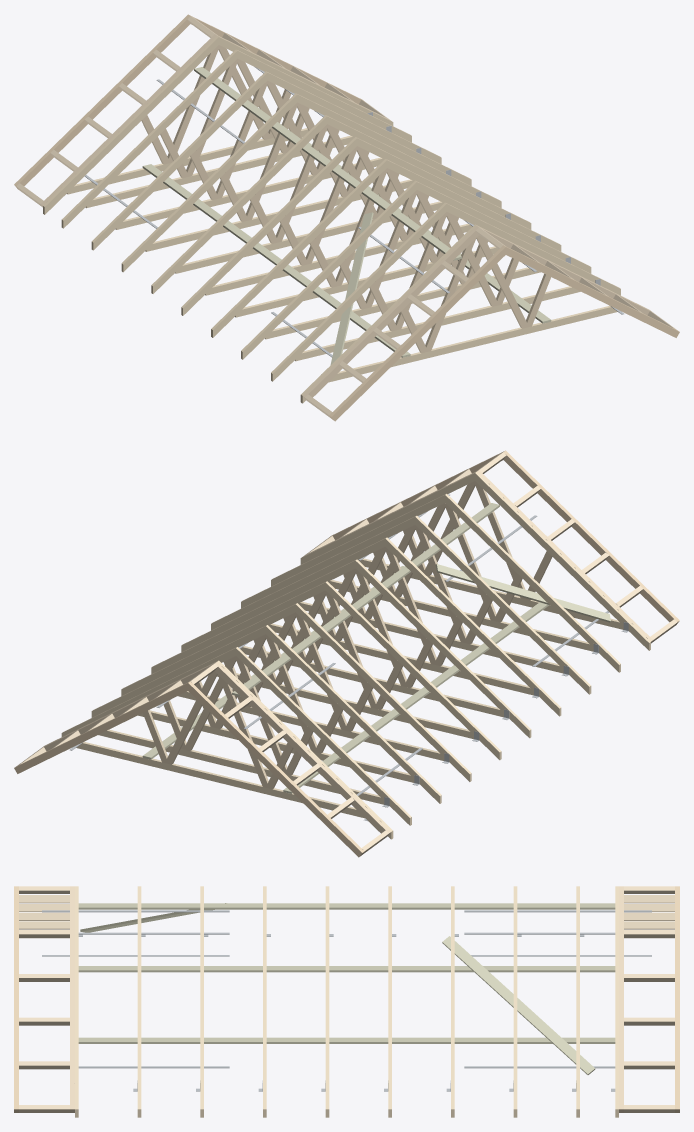
File: stage-3.glb
3 views of the same model, one above another, from view 1: azimuth 30°, elevation 25°; view 2: azimuth 150°, elevation 25°; view 3: azimuth 270°, elevation 25° (orthographic). The views are drawn at different scales.
Parts seen in each view (by area): view 1: Geom3D_TC01 truss chord 35 x 72 TR26 L2465, Geom3D_TW04 truss web 35 x 72 TR26 L707, Geom3D_BG76 barge 47 x 72 C24 L2465, Geom3D_BN71 binder 22 x 97 C16 L5210, Geom3D_LR77 ladder rail 47 x 72 C24 L2465, Geom3D_OR78 outrigger 47 x 72 C24 L488, Geom3D_TCP38 clip; view 2: Geom3D_TC01 truss chord 35 x 72 TR26 L2465, Geom3D_TW04 truss web 35 x 72 TR26 L707, Geom3D_BG76 barge 47 x 72 C24 L2465, Geom3D_BN71 binder 22 x 97 C16 L5210, Geom3D_LR77 ladder rail 47 x 72 C24 L2465, Geom3D_OR78 outrigger 47 x 72 C24 L488, Geom3D_TCP38 clip; view 3: Geom3D_BN71 binder 22 x 97 C16 L5210, Geom3D_TC01 truss chord 35 x 72 TR26 L2465, Geom3D_OR78 outrigger 47 x 72 C24 L488, Geom3D_TCP38 clip, Geom3D_BG76 barge 47 x 72 C24 L2465, Geom3D_LR77 ladder rail 47 x 72 C24 L2465.
Boxes of the visible parts, left/top/right/bottom form: Geom3D_TC01 truss chord 35 x 72 TR26 L2465: left=43, top=36, right=649, bottom=403; Geom3D_TW04 truss web 35 x 72 TR26 L707: left=141, top=45, right=550, bottom=353; Geom3D_BG76 barge 47 x 72 C24 L2465: left=14, top=14, right=679, bottom=421; Geom3D_BN71 binder 22 x 97 C16 L5210: left=142, top=67, right=551, bottom=365; Geom3D_LR77 ladder rail 47 x 72 C24 L2465: left=41, top=34, right=651, bottom=401; Geom3D_OR78 outrigger 47 x 72 C24 L488: left=16, top=16, right=676, bottom=419; Geom3D_TCP38 clip: left=84, top=67, right=624, bottom=357; Geom3D_TC01 truss chord 35 x 72 TR26 L2465: left=44, top=472, right=650, bottom=839; Geom3D_TW04 truss web 35 x 72 TR26 L707: left=143, top=481, right=552, bottom=789; Geom3D_BG76 barge 47 x 72 C24 L2465: left=14, top=450, right=679, bottom=857; Geom3D_BN71 binder 22 x 97 C16 L5210: left=142, top=503, right=610, bottom=793; Geom3D_LR77 ladder rail 47 x 72 C24 L2465: left=42, top=470, right=652, bottom=837; Geom3D_OR78 outrigger 47 x 72 C24 L488: left=17, top=452, right=677, bottom=855; Geom3D_TCP38 clip: left=69, top=494, right=628, bottom=820; Geom3D_BN71 binder 22 x 97 C16 L5210: left=78, top=903, right=615, bottom=1074; Geom3D_TC01 truss chord 35 x 72 TR26 L2465: left=75, top=886, right=618, bottom=1117; Geom3D_OR78 outrigger 47 x 72 C24 L488: left=19, top=886, right=674, bottom=1112; Geom3D_TCP38 clip: left=42, top=910, right=651, bottom=1091; Geom3D_BG76 barge 47 x 72 C24 L2465: left=14, top=886, right=679, bottom=1112; Geom3D_LR77 ladder rail 47 x 72 C24 L2465: left=70, top=886, right=623, bottom=1112.
Size of the model in its own units: 4.04 by 1.5 by 6.38.
